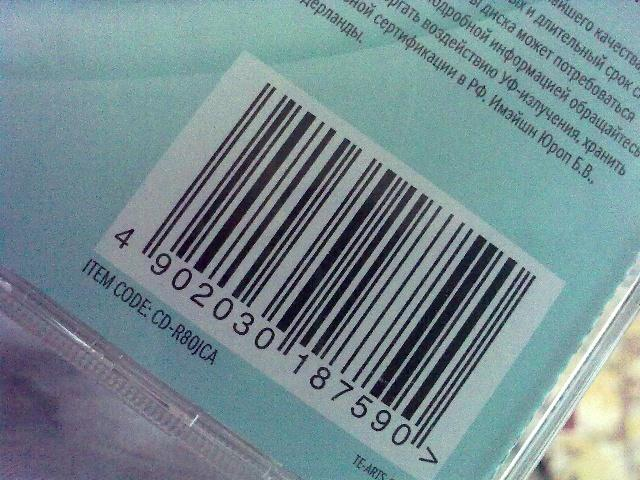Barcode: (112, 75, 537, 453)
